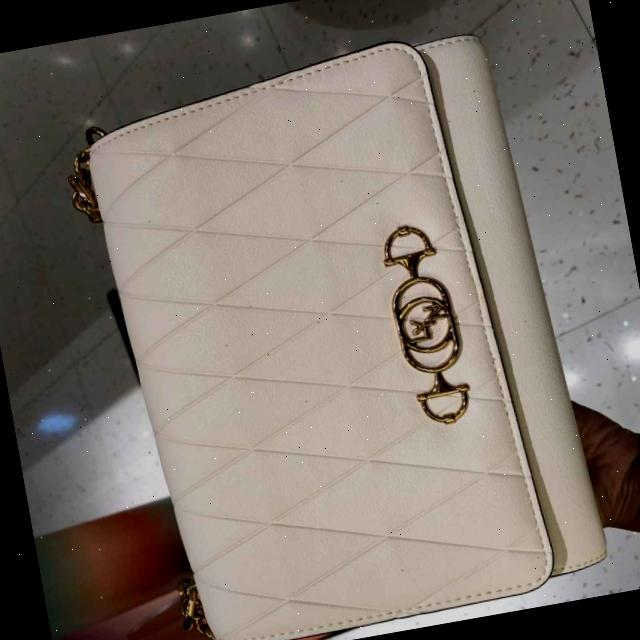Handbag: (68, 15, 617, 640)
